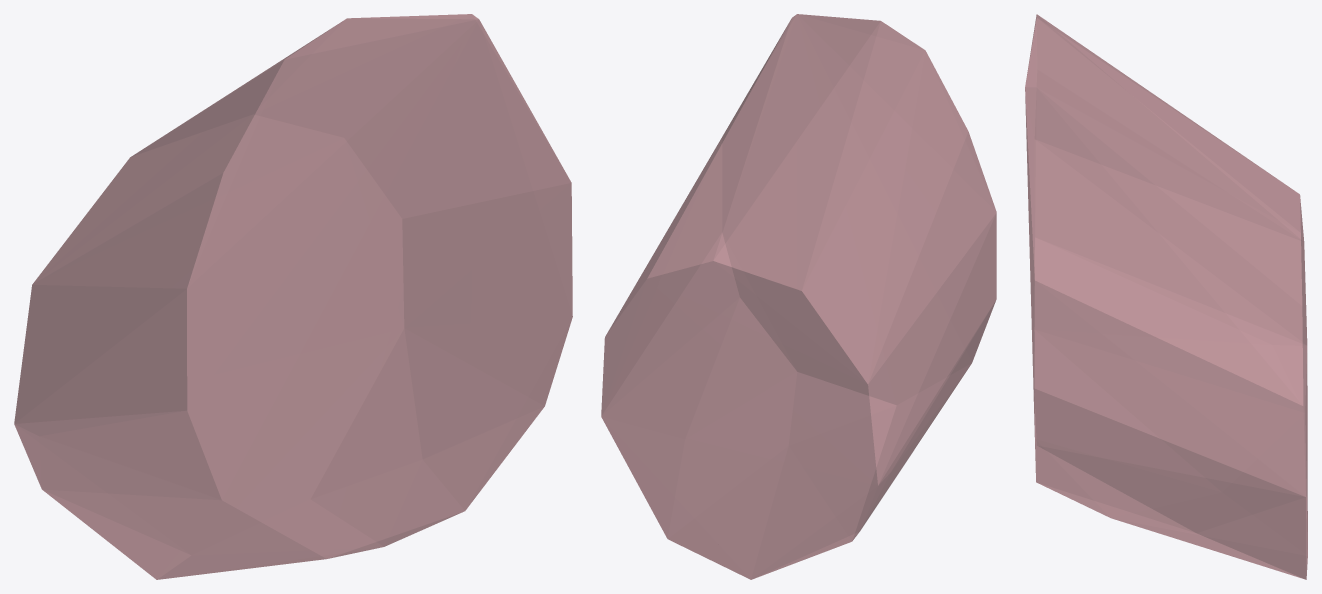
3 views of the same model, side by side, from view 1: azimuth 30°, elevation 25°; view 2: azimuth 150°, elevation 25°; view 3: azimuth 270°, elevation 25° (orthographic). The views are drawn at different scales.
Parts seen in each view (by area): view 1: Shape_IndexedFaceSet.004_Shape_IndexedFaceSet.10751; view 2: Shape_IndexedFaceSet.004_Shape_IndexedFaceSet.10751; view 3: Shape_IndexedFaceSet.004_Shape_IndexedFaceSet.10751.
Part boxes in pixels (x1,y1,x2,y2): Shape_IndexedFaceSet.004_Shape_IndexedFaceSet.10751: (14, 14, 572, 579); Shape_IndexedFaceSet.004_Shape_IndexedFaceSet.10751: (601, 14, 996, 579); Shape_IndexedFaceSet.004_Shape_IndexedFaceSet.10751: (1025, 14, 1307, 579).
Bounding box in the file's own units: 0.1211 × 0.1974 × 0.0949.
